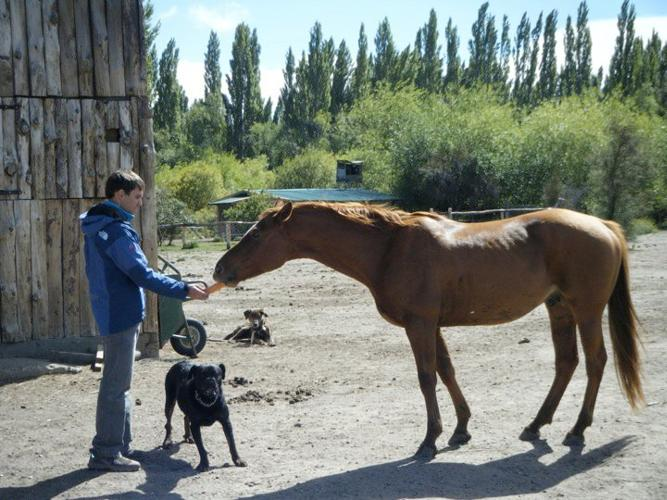person: (78, 168, 210, 470)
